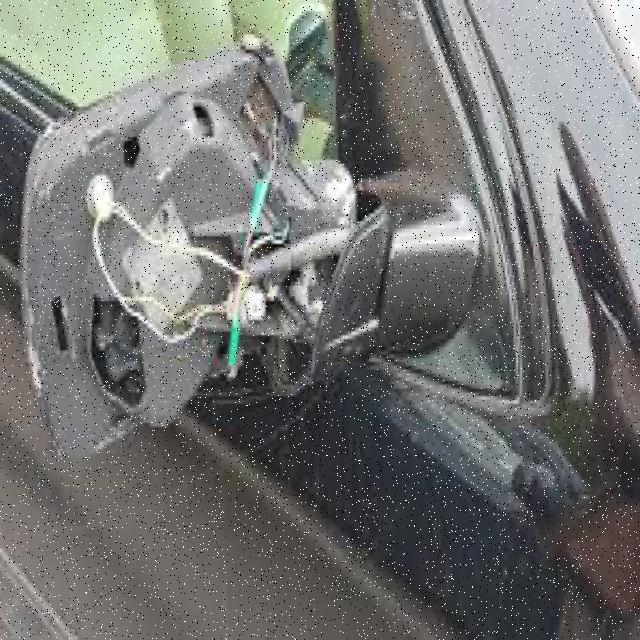car damage: (25, 30, 393, 465)
